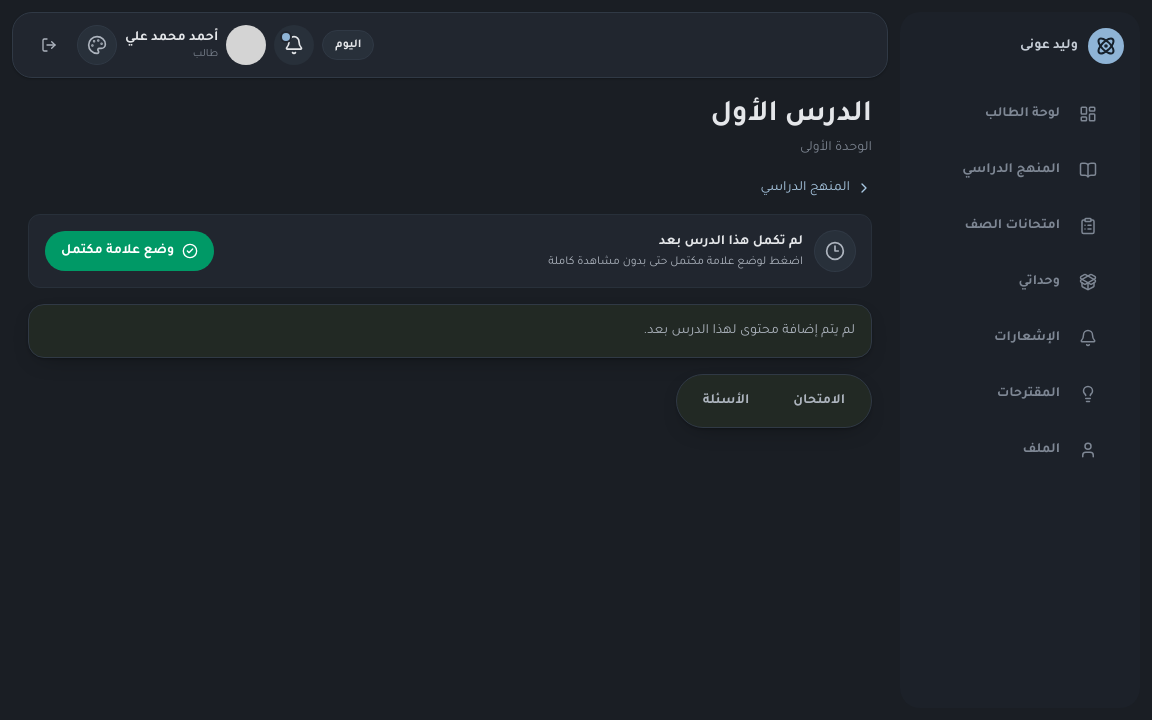
StudentLessonPage — exams tab › keeps exams with essay questions pending until the staff grades them
Click the tab with test id "lesson-tab-exams" at x=819, y=401, box [773,381,865,421]
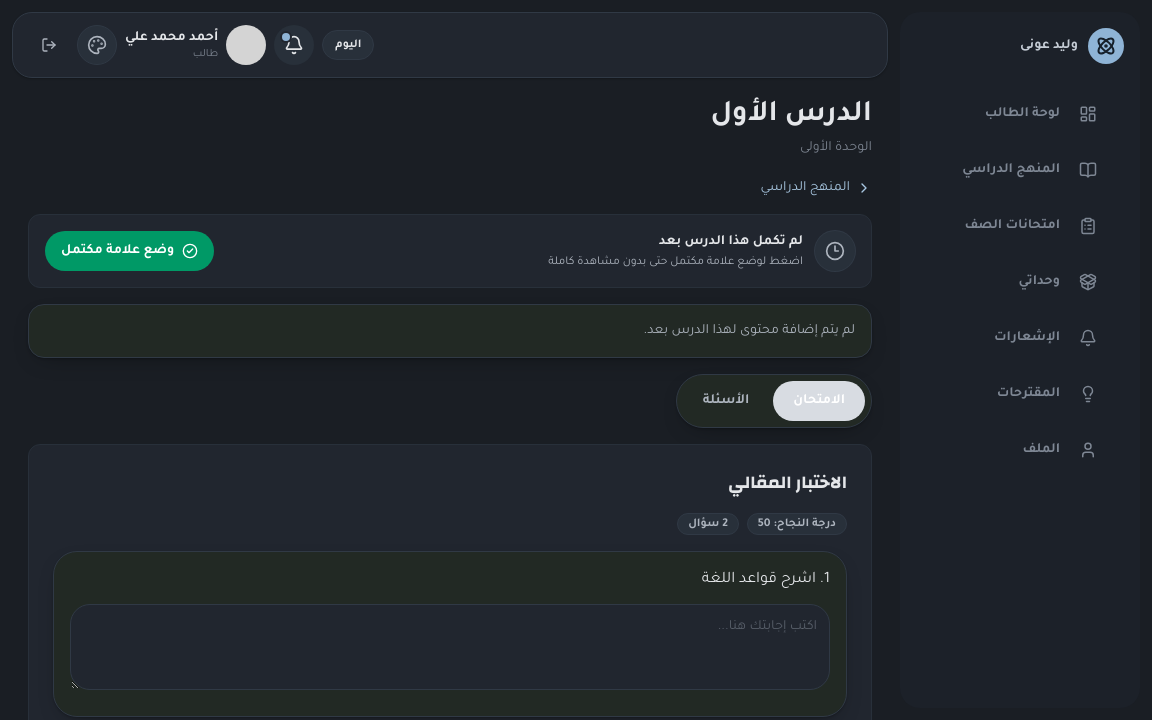
Type "الجملة الاسمية تبدأ باسم." into the text box named "إجابة السؤال 1" at x=450, y=647, box [70,604,830,690]
(page scrolled)
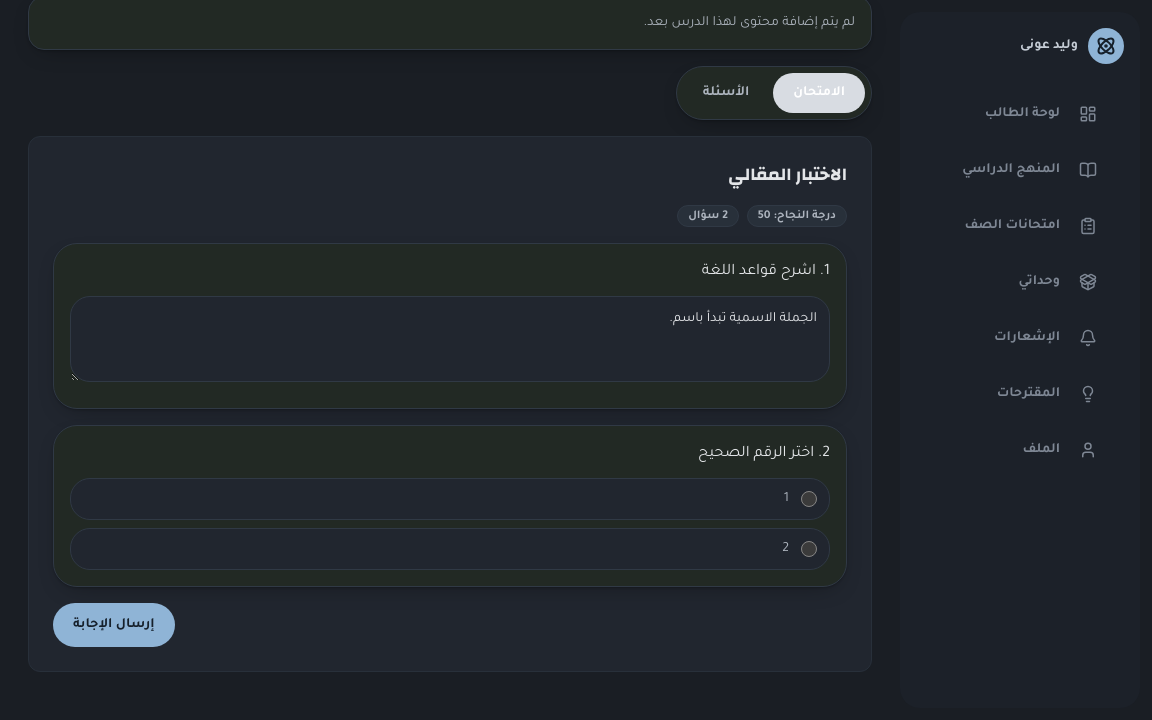
Click the radio button labelled "2" at x=809, y=549, box [801,541,817,557]
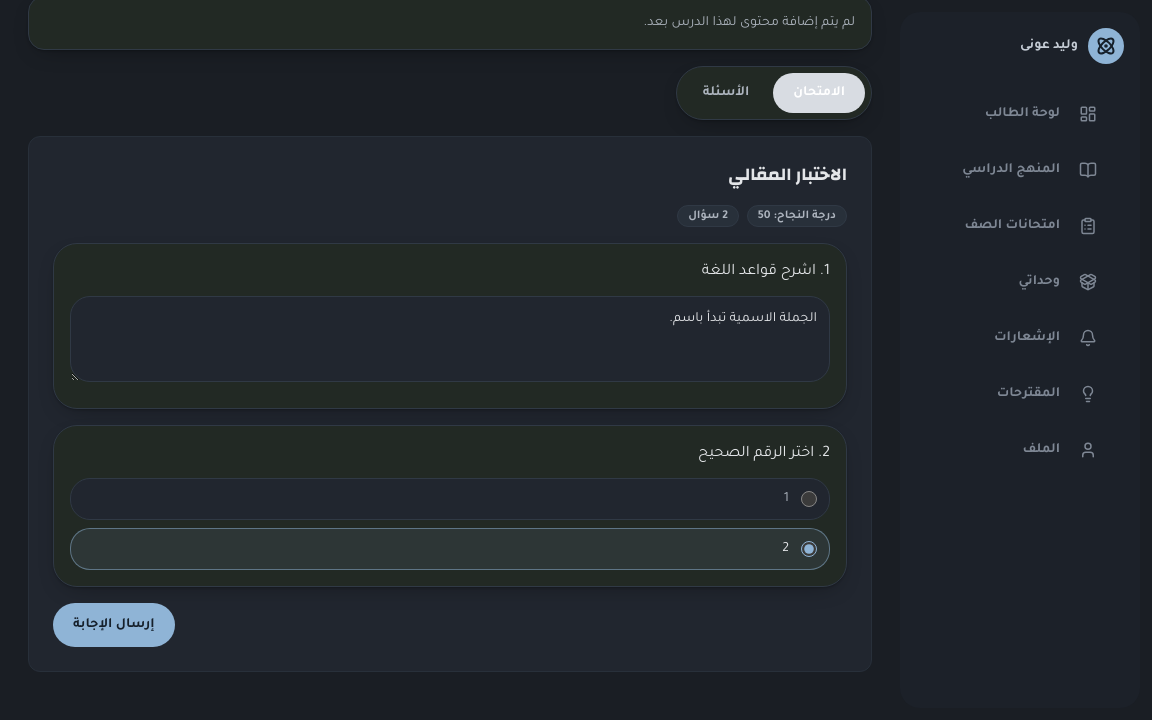
Click the button with test id "exam-submit-exam-2" at x=114, y=625, box [53,603,174,647]
(page scrolled)
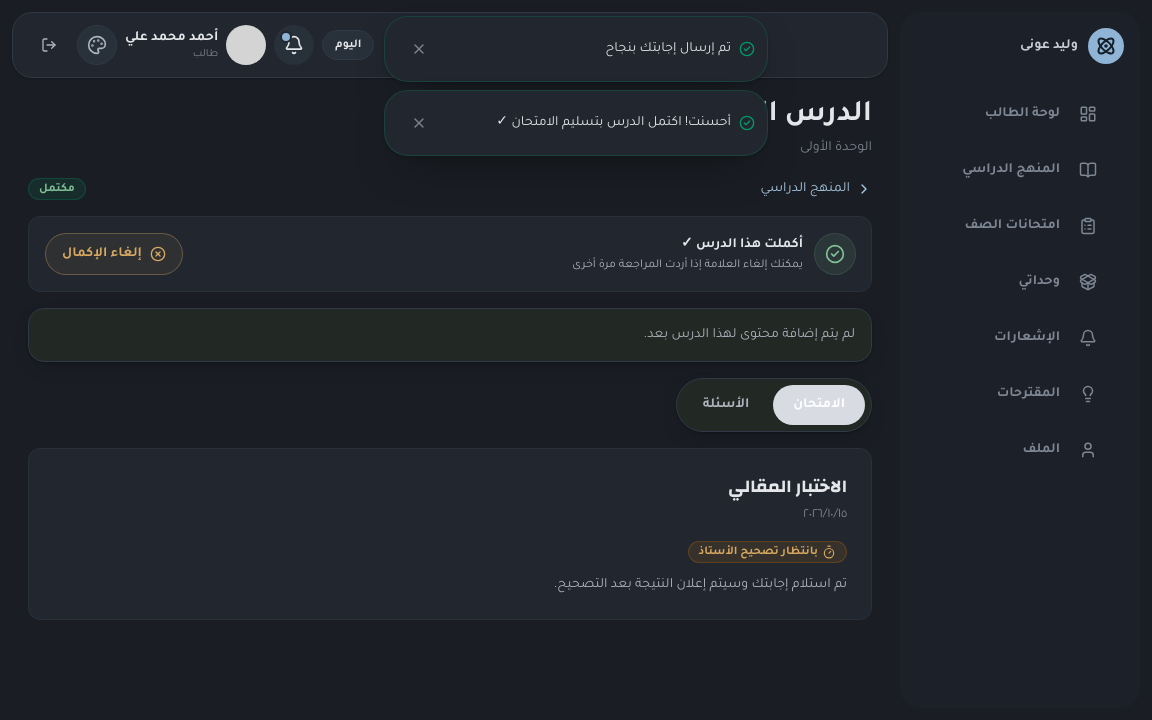
Now the text "بانتظار تصحيح الأستاذ" is shown, box [688,541,847,563]
